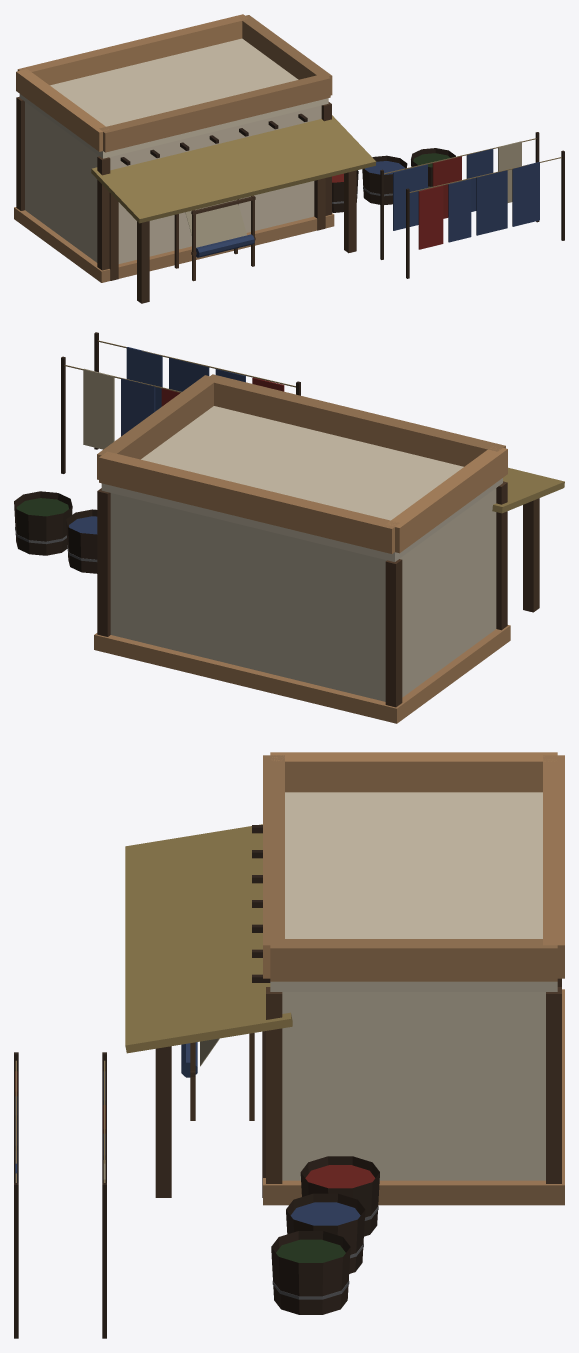
The model's file is walk_sunborn_weaver.glb.
3 views of the same model, one above another, from view 1: azimuth 30°, elevation 25°; view 2: azimuth 150°, elevation 25°; view 3: azimuth 270°, elevation 25° (orthographic). The views are drawn at different scales.
Visible parts, largest first — view 1: walk_sunborn_weaver, walk_sunborn_weaver_roof; view 2: walk_sunborn_weaver, walk_sunborn_weaver_roof; view 3: walk_sunborn_weaver_roof, walk_sunborn_weaver.
Part boxes in pixels (<box>): walk_sunborn_weaver: <box>14,96,564,303</box>; walk_sunborn_weaver_roof: <box>16,14,376,223</box>; walk_sunborn_weaver: <box>14,332,539,723</box>; walk_sunborn_weaver_roof: <box>97,374,564,561</box>; walk_sunborn_weaver_roof: <box>125,752,564,1053</box>; walk_sunborn_weaver: <box>14,825,564,1338</box>.
Size of what is drawn, in the model's own units: 10.63 by 3.85 by 7.48.
Materials: 2 (2 with a texture image).
